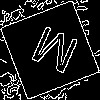M: (25, 25, 81, 83)
